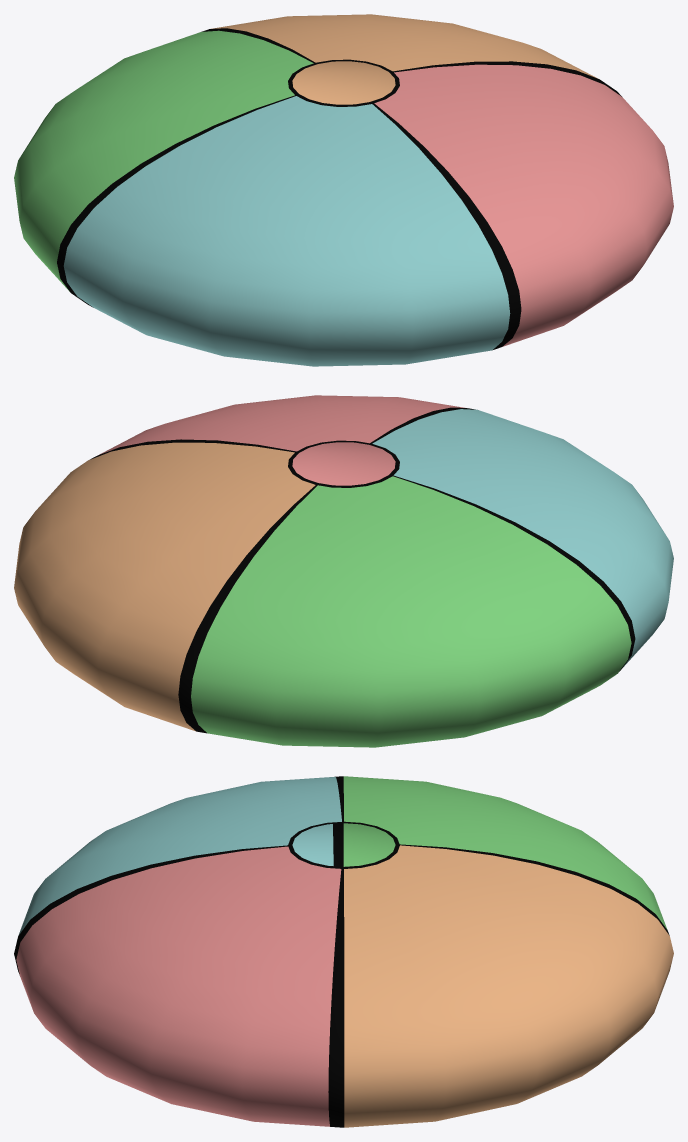
3 renders of one model, top to bottom at view 1: azimuth 30°, elevation 25°; view 2: azimuth 150°, elevation 25°; view 3: azimuth 270°, elevation 25°, orthographic.
Parts seen in each view (by area): view 1: polySurface2; view 2: polySurface2; view 3: polySurface2.
Boxes of the visible parts, left/top/right/bottom form: polySurface2: left=14, top=14, right=673, bottom=366; polySurface2: left=14, top=395, right=673, bottom=747; polySurface2: left=14, top=776, right=673, bottom=1127.
Size of the model in its own units: 105 by 29.46 by 105.
